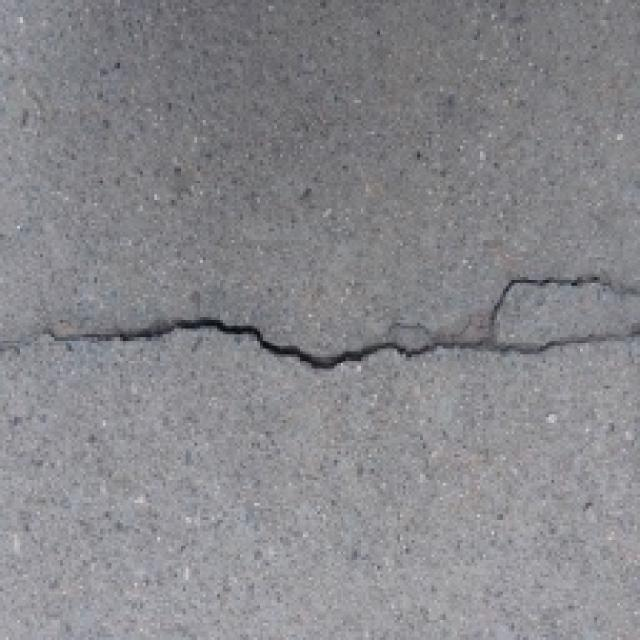SurfaceCrack: (8, 264, 640, 406)
